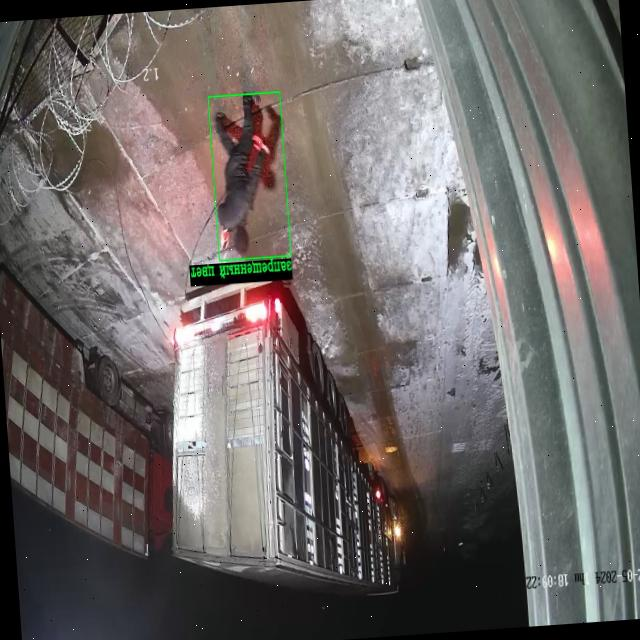Person: (214, 94, 267, 255)
